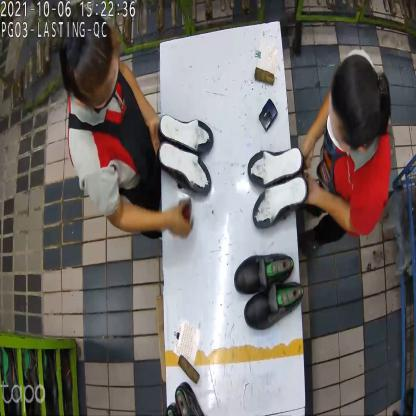shoes: (158, 108, 216, 196), (247, 146, 310, 226), (237, 256, 303, 329)
stamp: (259, 98, 278, 131), (176, 199, 194, 228)
